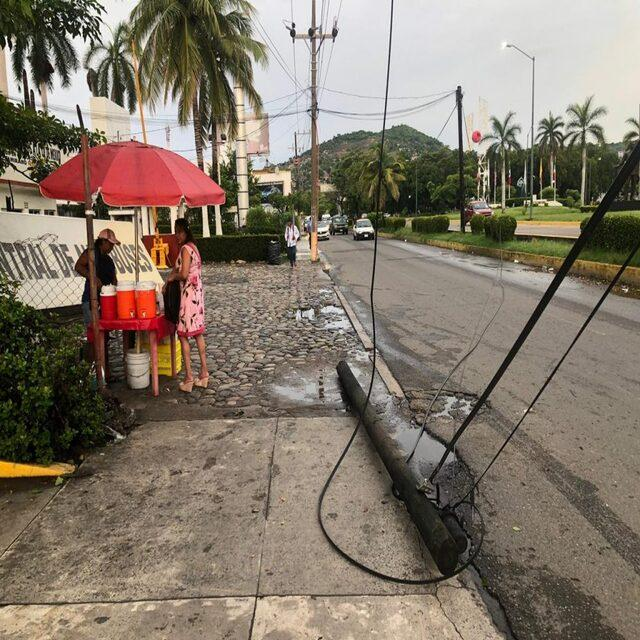Inclined Pole: (326, 352, 478, 580)
